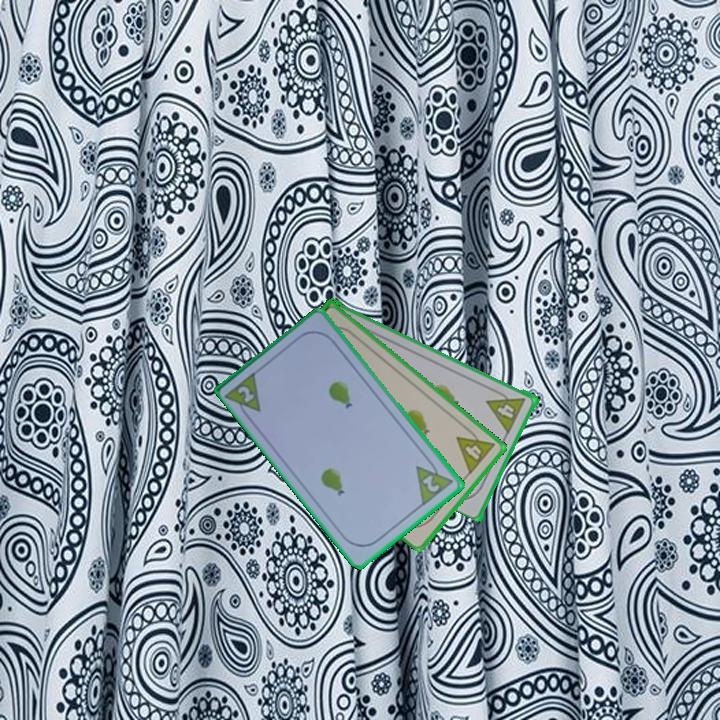2p: (412, 454, 457, 509), (234, 382, 258, 406)
4p: (453, 423, 498, 477), (484, 385, 529, 436)
